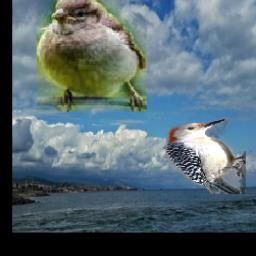Sparrow: (37, 0, 147, 112)
Woodpecker: (166, 119, 247, 195)
